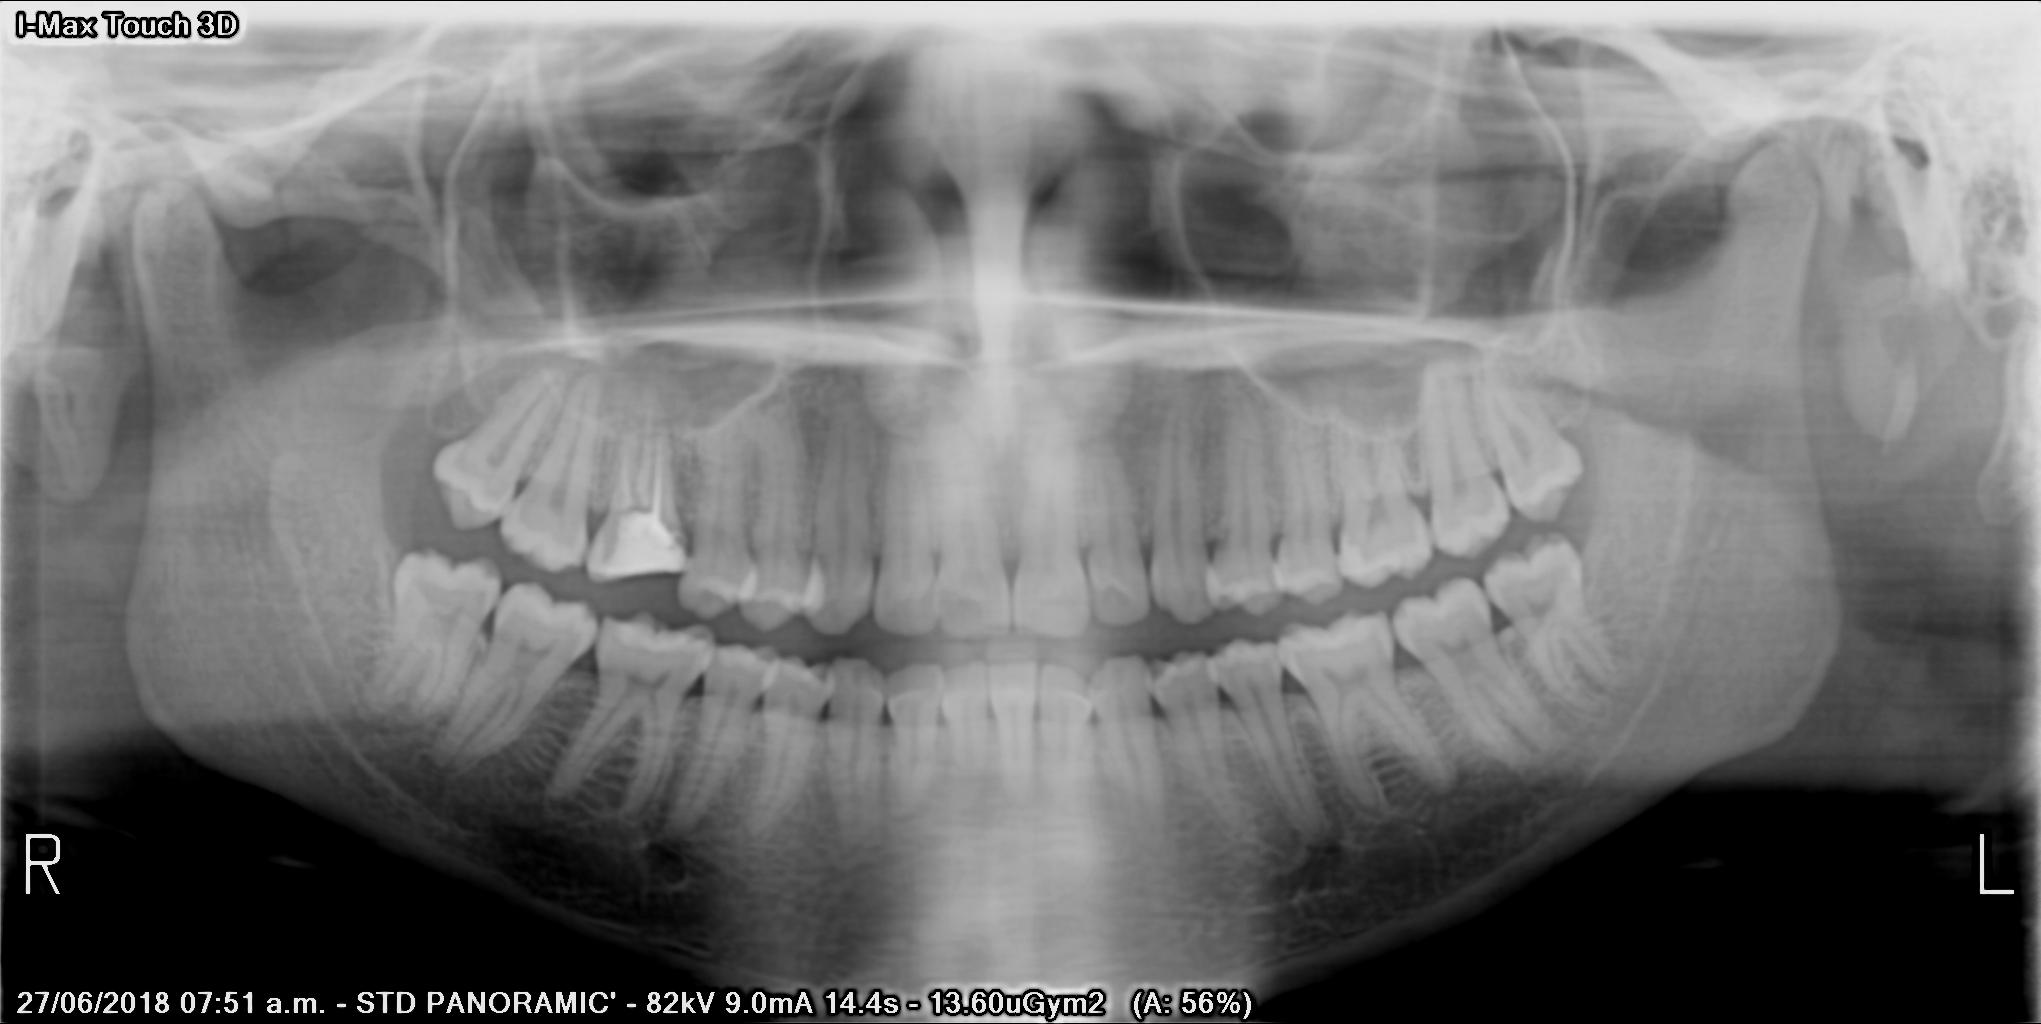Çürük: (593, 504, 686, 580)
